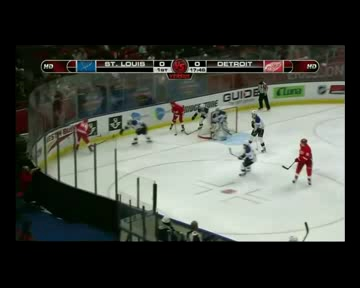normal: (162, 91, 234, 143)
